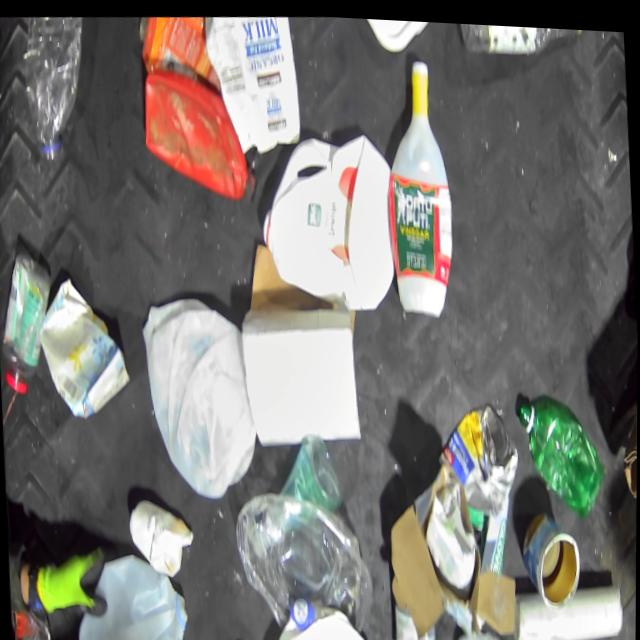can: (443, 396, 514, 508), (521, 499, 583, 605)
milk_jug: (260, 118, 394, 314), (142, 301, 252, 502), (72, 556, 190, 640)
non_white_jug: (143, 57, 258, 201)
plastic_bottle: (20, 13, 87, 173), (460, 19, 588, 57)
